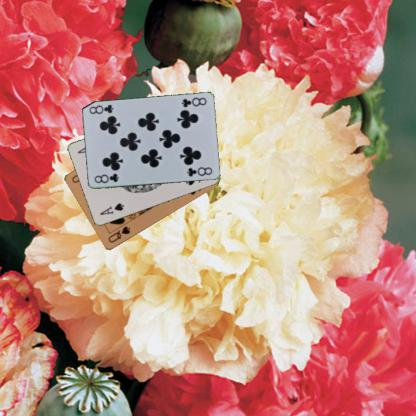8c: (178, 94, 208, 108), (92, 171, 120, 184)
As: (97, 201, 125, 217)
Qs: (106, 224, 131, 244)
